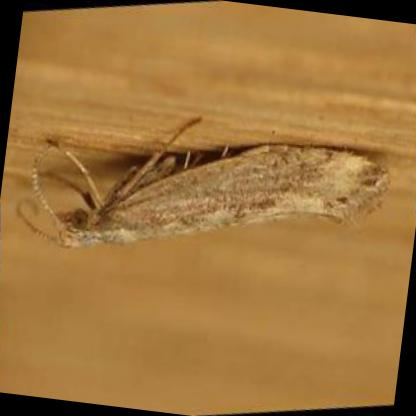plutella: (14, 111, 401, 257)
